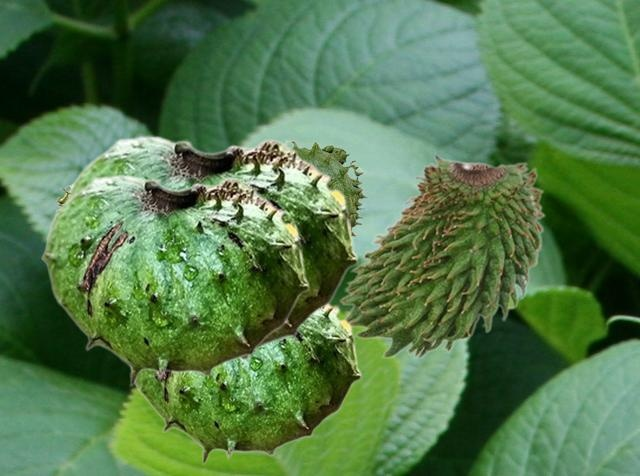guyabano: (64, 135, 358, 363), (41, 174, 309, 386), (338, 151, 545, 358), (134, 304, 361, 464), (285, 139, 368, 243)
